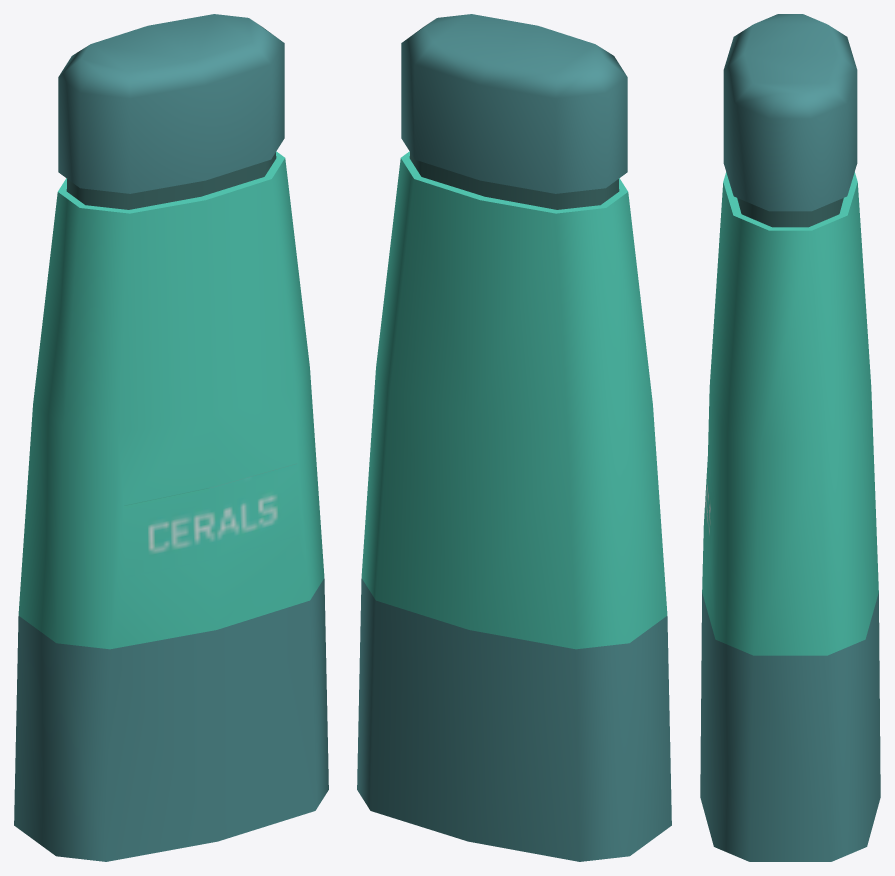
The model's file is SM_Item_Shampoo_02.obj.
3 renders of one model, left to right at view 1: azimuth 30°, elevation 25°; view 2: azimuth 150°, elevation 25°; view 3: azimuth 270°, elevation 25°, orthographic. The views are drawn at different scales.
Visible parts, largest first — view 1: SM_Item_Shampoo_02_Mat_SwatchOverlay_AtlasSchool_01_Wood_Inst; view 2: SM_Item_Shampoo_02_Mat_SwatchOverlay_AtlasSchool_01_Wood_Inst; view 3: SM_Item_Shampoo_02_Mat_SwatchOverlay_AtlasSchool_01_Wood_Inst.
Boxes of the visible parts, bbox=[...] form: SM_Item_Shampoo_02_Mat_SwatchOverlay_AtlasSchool_01_Wood_Inst: bbox=[14, 14, 328, 861]; SM_Item_Shampoo_02_Mat_SwatchOverlay_AtlasSchool_01_Wood_Inst: bbox=[357, 14, 671, 861]; SM_Item_Shampoo_02_Mat_SwatchOverlay_AtlasSchool_01_Wood_Inst: bbox=[700, 14, 880, 861].
Bounding box in the file's own units: 0.1 × 0.2678 × 0.0589.
1 material, 1 textured.
